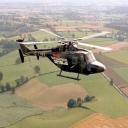helicopter: (17, 30, 114, 82)
